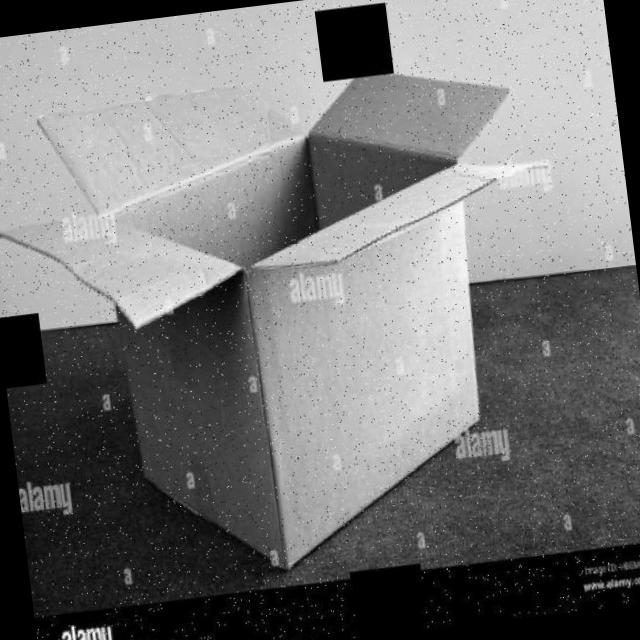box: (0, 26, 571, 605)
